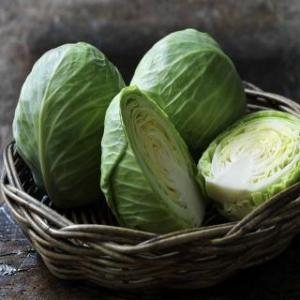cabbage: (15, 41, 132, 213), (100, 79, 202, 242), (131, 27, 249, 162), (198, 107, 300, 227)
